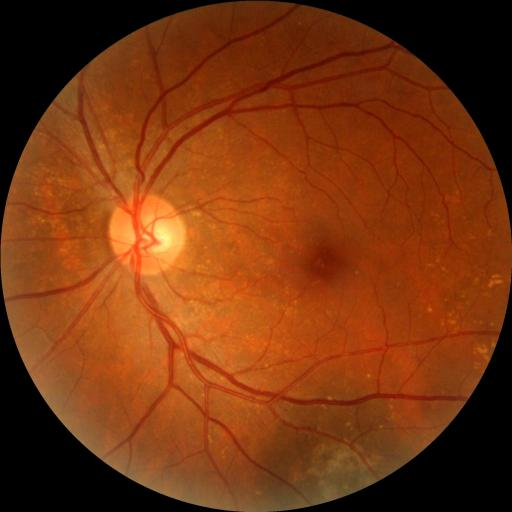Optic Cup: (137, 219, 172, 253)
Optic Disc: (107, 193, 185, 275)
